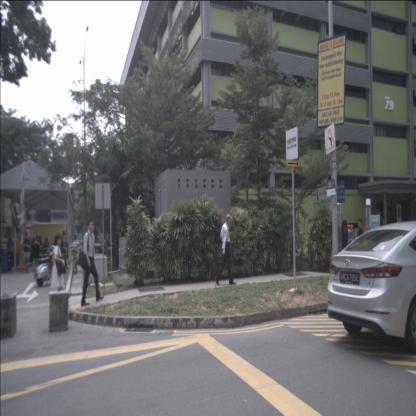human-pedestrian-adult: (78, 219, 104, 306), (214, 214, 236, 285), (51, 234, 67, 306), (356, 218, 364, 270), (341, 219, 349, 271), (31, 232, 40, 272), (23, 232, 31, 273), (62, 230, 67, 258), (44, 237, 50, 253)
movable_object-barrier: (49, 290, 69, 332), (0, 293, 17, 339)
vehicle-bicycle: (70, 244, 80, 274)
vehicle-car: (325, 219, 416, 346)
vehicle-motorcycle: (34, 247, 64, 288)
